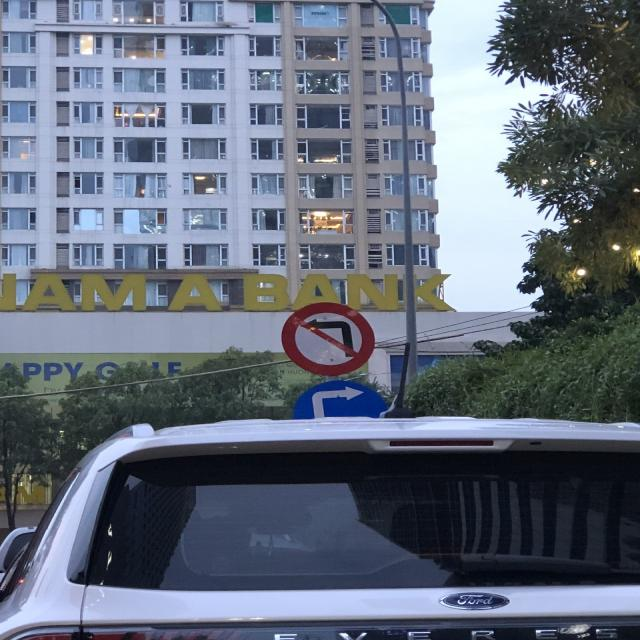Bien bao cam re trai: (276, 294, 392, 376)
